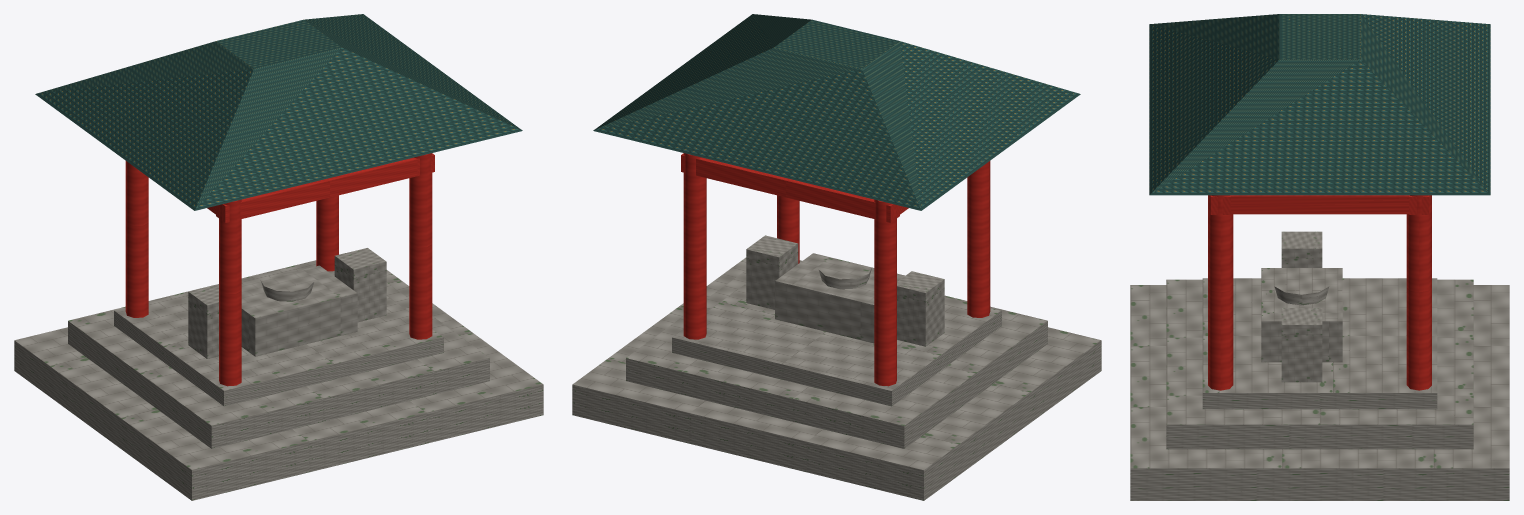
File: ancient_stone_shrine.glb
3 views of the same model, side by side, from view 1: azimuth 30°, elevation 25°; view 2: azimuth 150°, elevation 25°; view 3: azimuth 270°, elevation 25° (orthographic). The views are drawn at different scales.
Parts seen in each view (by area): view 1: ancient_stone_shrine; view 2: ancient_stone_shrine; view 3: ancient_stone_shrine.
Boxes of the visible parts, x1,y1,x2,y2 form: ancient_stone_shrine: (14, 14, 543, 500); ancient_stone_shrine: (572, 14, 1101, 500); ancient_stone_shrine: (1130, 14, 1509, 500).
Bounding box in the file's own units: 4.8 × 4.55 × 4.2.
3 materials, 3 textured.
